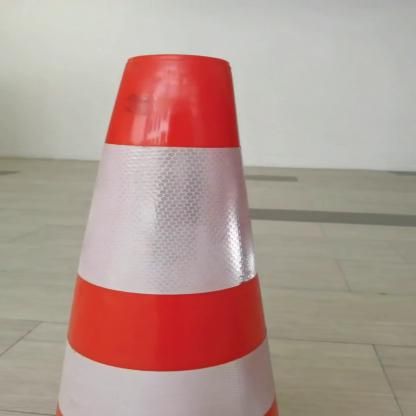cone: (38, 52, 310, 416)
